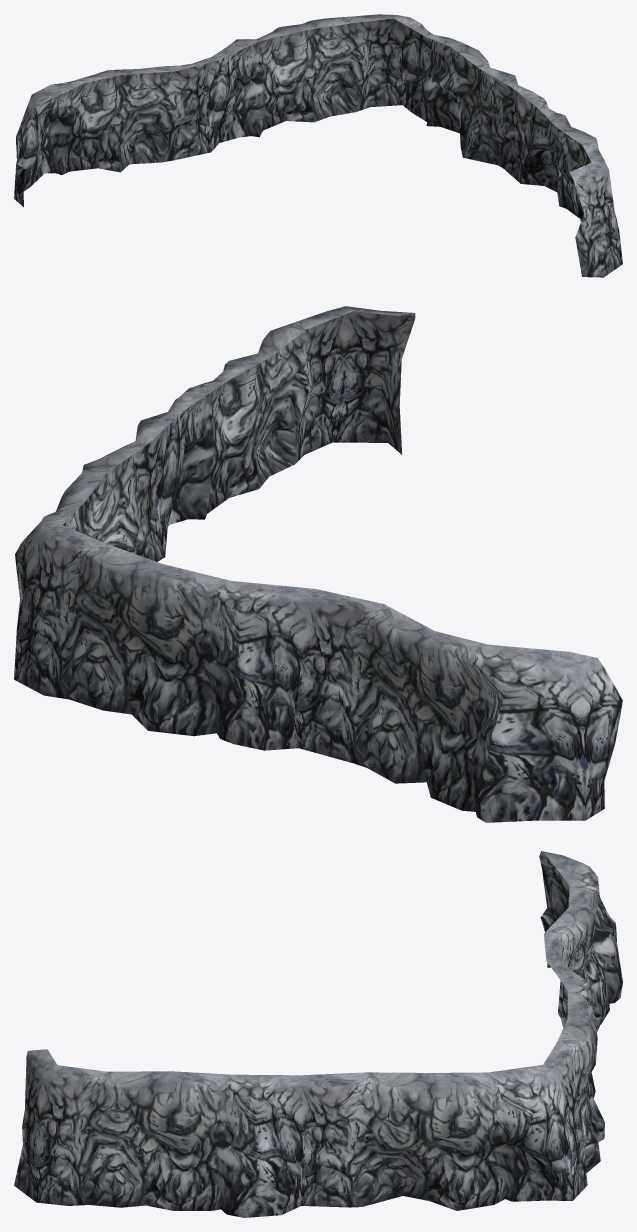
File: STR_FloorCaveB02.FBX
3 renders of one model, top to bottom at view 1: azimuth 30°, elevation 25°; view 2: azimuth 150°, elevation 25°; view 3: azimuth 270°, elevation 25°, orthographic. The views are drawn at different scales.
Visible parts, largest first — view 1: STR_FloorCaveB02; view 2: STR_FloorCaveB02; view 3: STR_FloorCaveB02.
Part boxes in pixels (<box>): STR_FloorCaveB02: <box>14,14,622,277</box>; STR_FloorCaveB02: <box>14,306,622,822</box>; STR_FloorCaveB02: <box>14,851,622,1217</box>.
Bounding box in the file's own units: 1790 × 401 × 1784.
